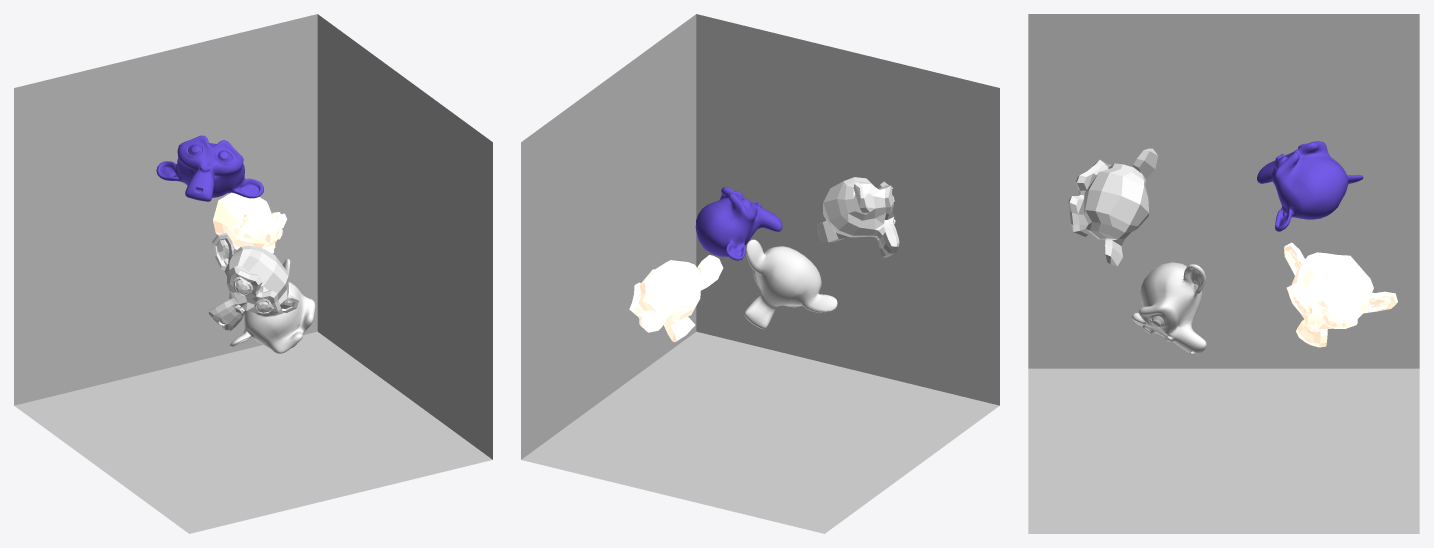
File: Scena.gltf
3 renders of one model, left to right at view 1: azimuth 30°, elevation 25°; view 2: azimuth 150°, elevation 25°; view 3: azimuth 270°, elevation 25°, orthographic. The views are drawn at different scales.
Visible parts, largest first — view 1: Cube, Suzanne, Suzanne.001, Suzanne.003, Suzanne.002; view 2: Cube, Suzanne.003, Suzanne.002, Suzanne, Suzanne.001; view 3: Cube, Suzanne.003, Suzanne, Suzanne.001, Suzanne.002.
Part boxes in pixels (box(x1,y1,x2,y2)): Cube: box(14, 14, 492, 533); Suzanne: box(208, 232, 298, 331); Suzanne.001: box(156, 135, 263, 201); Suzanne.003: box(213, 192, 287, 253); Suzanne.002: box(230, 258, 315, 353); Cube: box(521, 14, 999, 533); Suzanne.003: box(629, 255, 723, 342); Suzanne.002: box(744, 239, 837, 329); Suzanne: box(816, 177, 899, 257); Suzanne.001: box(695, 187, 782, 260); Cube: box(1028, 14, 1419, 533); Suzanne.003: box(1284, 242, 1397, 347); Suzanne: box(1068, 148, 1157, 266); Suzanne.001: box(1257, 141, 1363, 231); Suzanne.002: box(1132, 262, 1206, 354).
Bounding box in the file's own units: 8.42 × 8.42 × 8.42.
